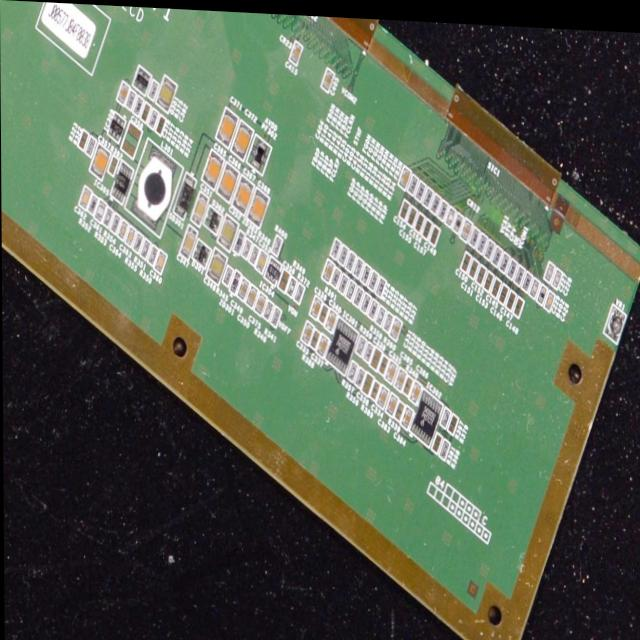IC: (403, 379, 451, 444), (322, 307, 364, 371), (109, 157, 139, 202), (103, 108, 132, 141), (258, 253, 283, 288)
capacitor: (200, 145, 231, 192), (229, 112, 261, 156), (247, 183, 280, 224), (214, 100, 243, 145), (219, 160, 245, 206), (205, 246, 233, 288), (233, 171, 261, 212), (119, 117, 145, 160), (216, 212, 244, 249), (175, 229, 205, 261), (157, 71, 183, 107), (189, 188, 214, 224), (90, 142, 114, 179), (74, 182, 94, 215), (276, 261, 293, 296), (394, 160, 415, 188), (319, 252, 339, 281), (386, 315, 409, 340), (324, 301, 341, 334), (397, 406, 420, 430), (154, 249, 173, 277), (114, 78, 132, 107), (308, 289, 327, 316), (236, 275, 252, 307), (494, 277, 512, 303), (246, 281, 261, 311), (406, 378, 424, 403), (411, 209, 430, 232), (253, 247, 272, 270), (384, 386, 399, 415), (542, 286, 560, 310), (385, 355, 401, 382), (299, 320, 316, 345), (473, 260, 488, 288), (458, 249, 474, 275), (402, 204, 420, 227), (458, 215, 476, 238), (93, 201, 109, 226), (428, 221, 444, 246), (392, 365, 408, 390), (501, 287, 520, 308), (255, 288, 270, 314), (465, 254, 481, 278), (511, 293, 529, 314), (482, 266, 497, 291), (369, 344, 386, 366), (360, 370, 376, 393), (375, 382, 390, 406), (397, 197, 413, 219), (550, 261, 566, 283), (118, 217, 132, 242), (544, 255, 558, 279), (317, 334, 332, 356), (489, 273, 503, 295), (421, 216, 434, 237), (527, 274, 542, 292), (124, 228, 138, 247)
resistor: (291, 277, 310, 307), (423, 189, 446, 212), (410, 174, 430, 200), (437, 401, 457, 427), (143, 244, 162, 271), (262, 293, 279, 323), (402, 169, 423, 193), (267, 306, 288, 330), (76, 125, 92, 156), (446, 408, 464, 435), (81, 195, 102, 218), (105, 213, 126, 236), (269, 227, 288, 252), (284, 273, 303, 298), (356, 290, 374, 315), (359, 257, 375, 285), (372, 272, 390, 296), (99, 206, 118, 228), (377, 347, 393, 373), (219, 263, 236, 287), (352, 332, 369, 356), (146, 78, 165, 99), (152, 112, 170, 134), (488, 243, 506, 265), (136, 239, 153, 262), (366, 263, 383, 286), (351, 252, 367, 276), (352, 365, 368, 389), (449, 209, 467, 230), (337, 238, 352, 263), (129, 233, 146, 255), (392, 398, 409, 420), (328, 261, 344, 284), (362, 337, 378, 360), (84, 136, 99, 160), (481, 236, 501, 254), (419, 182, 435, 204), (520, 266, 536, 288), (368, 376, 382, 401), (147, 108, 162, 131), (496, 246, 513, 266), (343, 245, 357, 269), (350, 284, 366, 305), (381, 306, 394, 331), (125, 89, 140, 110), (328, 236, 343, 257), (344, 277, 358, 299), (473, 229, 490, 247), (511, 262, 528, 280), (442, 204, 458, 223), (371, 304, 387, 323), (436, 196, 451, 216), (505, 255, 520, 275), (337, 269, 351, 290), (403, 369, 415, 393), (467, 223, 482, 242), (344, 360, 359, 379), (429, 428, 444, 447), (132, 97, 146, 116), (367, 297, 380, 317), (438, 437, 453, 454), (141, 103, 152, 123)
